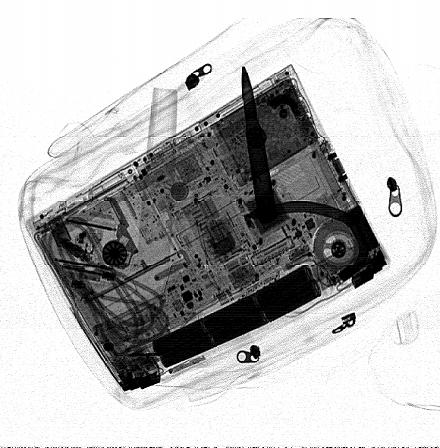Bullet: (240, 61, 280, 225)
